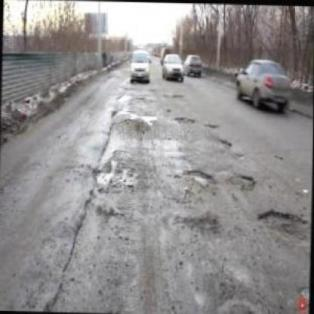Hueco: (257, 206, 311, 235), (184, 165, 214, 186), (192, 213, 219, 235), (234, 170, 256, 192), (173, 112, 195, 127), (219, 134, 231, 148), (202, 121, 219, 128)
